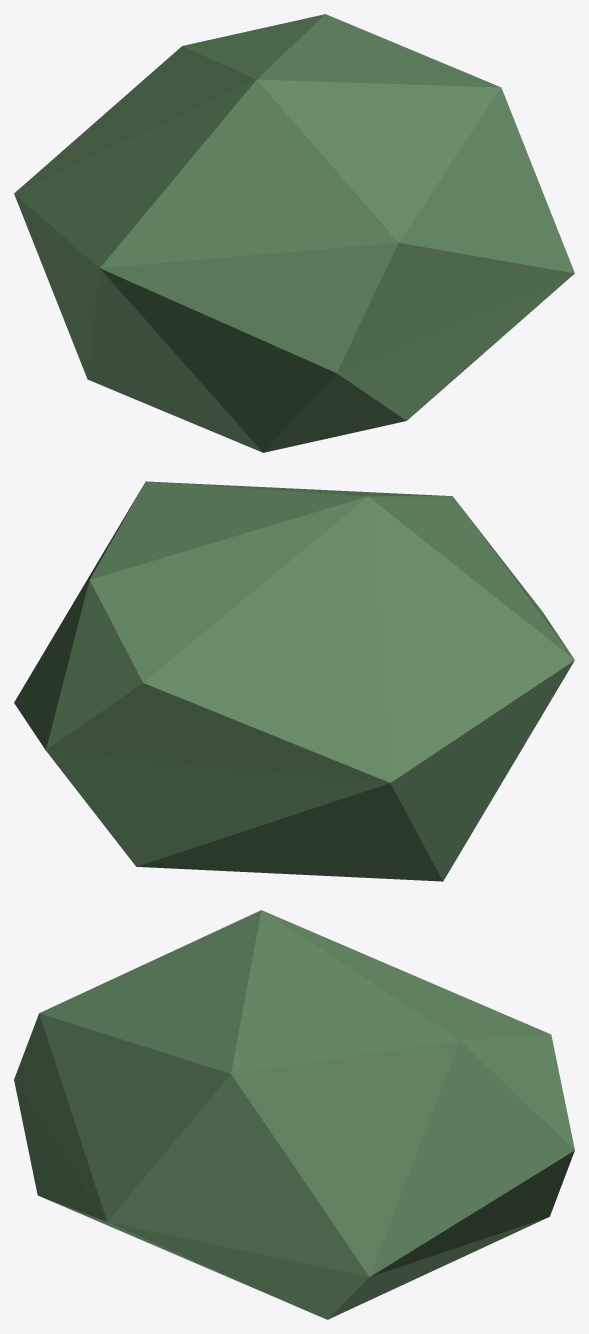
Rendered from boulder_1.obj.
3 renders of one model, top to bottom at view 1: azimuth 30°, elevation 25°; view 2: azimuth 150°, elevation 25°; view 3: azimuth 270°, elevation 25°, orthographic. The views are drawn at different scales.
Visible parts, largest first — view 1: Icosphere.034_Icosphere.033; view 2: Icosphere.034_Icosphere.033; view 3: Icosphere.034_Icosphere.033.
Part boxes in pixels (x1=…): Icosphere.034_Icosphere.033: x1=14, y1=14, x2=574, y2=452; Icosphere.034_Icosphere.033: x1=14, y1=481, x2=574, y2=881; Icosphere.034_Icosphere.033: x1=14, y1=910, x2=574, y2=1319.
Bounding box in the file's own units: 0.9821 × 0.7243 × 1.03.
